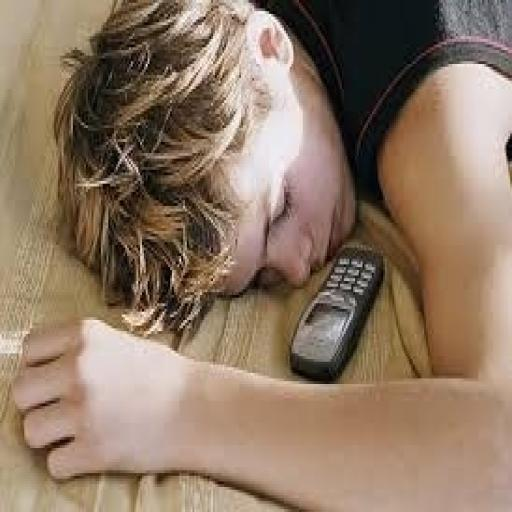sleeping: (8, 0, 510, 509)
